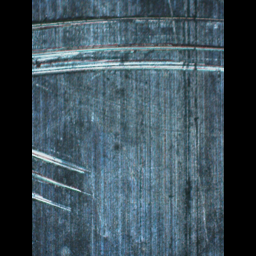d: (32, 12, 224, 82), (32, 140, 97, 225)
